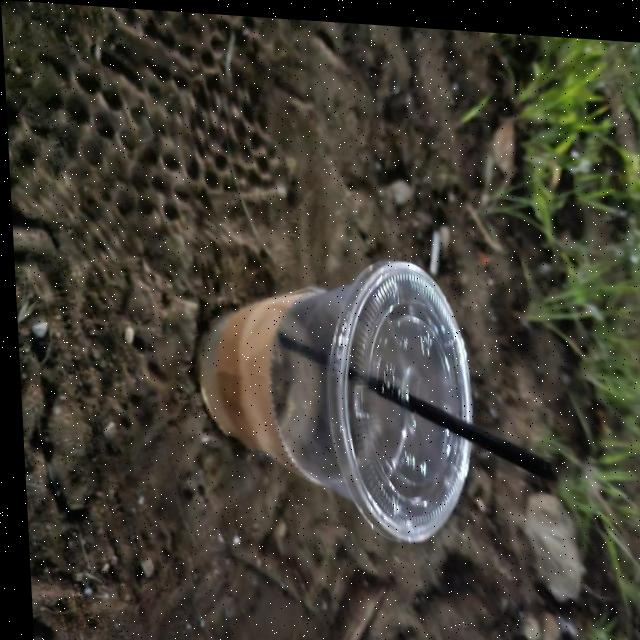cup: (181, 239, 481, 544)
